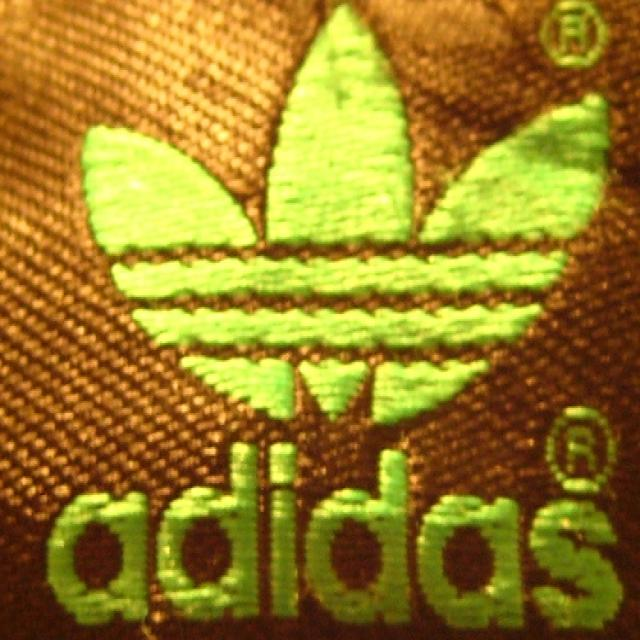adidas: (38, 3, 637, 639)
